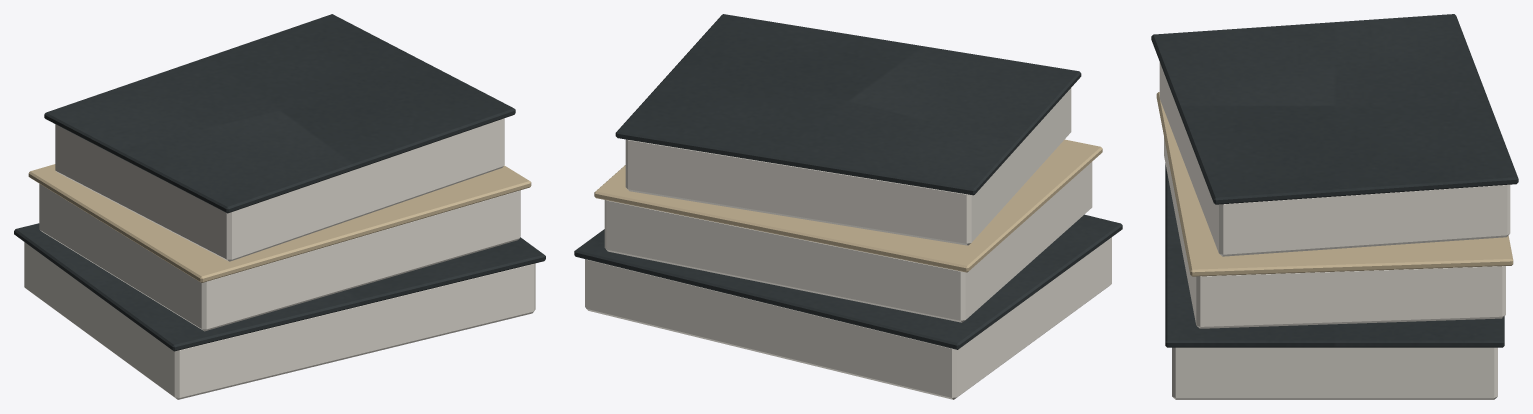
File: BookStack.glb
The picture shows the model from 3 angles, left to right: view 1: azimuth 30°, elevation 25°; view 2: azimuth 150°, elevation 25°; view 3: azimuth 270°, elevation 25°; orthographic projection. The views are drawn at different scales.
Parts seen in each view (by area): view 1: BookStack__WarmPaper__mesh, BookStack__Powdercoat__mesh, BookStack__AgedBrass__mesh; view 2: BookStack__WarmPaper__mesh, BookStack__Powdercoat__mesh, BookStack__AgedBrass__mesh; view 3: BookStack__Powdercoat__mesh, BookStack__WarmPaper__mesh, BookStack__AgedBrass__mesh.
Part boxes in pixels (x1,y1,x2,y2): BookStack__WarmPaper__mesh: (24, 118, 535, 399); BookStack__Powdercoat__mesh: (14, 14, 545, 351); BookStack__AgedBrass__mesh: (28, 164, 531, 282); BookStack__WarmPaper__mesh: (585, 88, 1111, 399); BookStack__Powdercoat__mesh: (574, 14, 1122, 349); BookStack__AgedBrass__mesh: (594, 139, 1102, 272); BookStack__Powdercoat__mesh: (1151, 14, 1518, 347); BookStack__WarmPaper__mesh: (1159, 62, 1510, 399); BookStack__AgedBrass__mesh: (1156, 92, 1513, 276).
Size of the model in its own units: 0.238 by 0.1165 by 0.1914.
3 materials, 1 textured.
